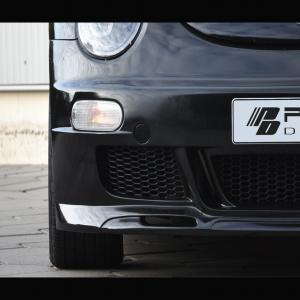Vehicle-registration-plate: (232, 99, 300, 146)
